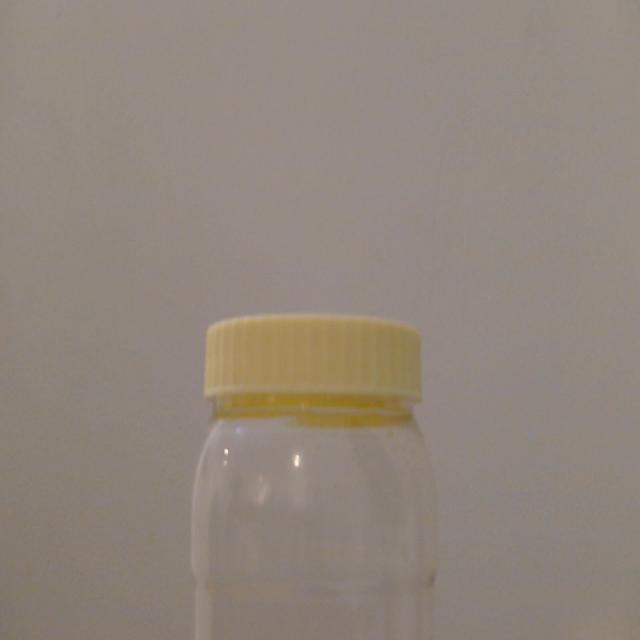cap: (187, 297, 441, 427)
